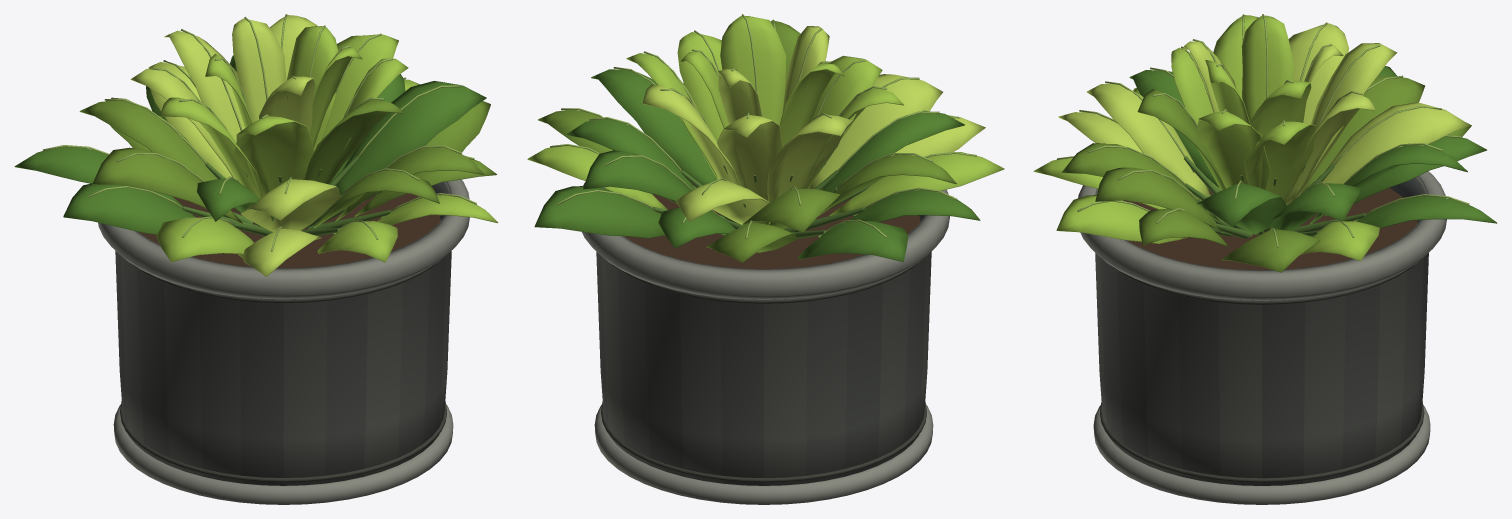
File: wsc-prop-056-plant-pot.glb
3 renders of one model, left to right at view 1: azimuth 30°, elevation 25°; view 2: azimuth 150°, elevation 25°; view 3: azimuth 270°, elevation 25°, orthographic.
Visible parts, largest first — view 1: Deep, open spun body, Potted satin foliage • green gold, Satin pewter rolled edges, Potted satin foliage • lime shoot, Potted satin foliage • olive, Potted satin foliage • deep green, Dark loam, Quiet chartreuse midrib, Oxidized fillet, Dark olive petioles; view 2: Deep, open spun body, Potted satin foliage • deep green, Potted satin foliage • lime shoot, Potted satin foliage • green gold, Satin pewter rolled edges, Potted satin foliage • olive, Dark loam, Quiet chartreuse midrib, Oxidized fillet, Dark olive petioles; view 3: Deep, open spun body, Potted satin foliage • green gold, Potted satin foliage • lime shoot, Satin pewter rolled edges, Potted satin foliage • olive, Potted satin foliage • deep green, Dark loam, Quiet chartreuse midrib, Oxidized fillet, Dark olive petioles.
Boxes of the visible parts, x1,y1,x2,y2 form: Deep, open spun body: (115,181,451,485); Potted satin foliage • green gold: (156,26,498,262); Satin pewter rolled edges: (98,179,469,504); Potted satin foliage • lime shoot: (130,15,340,276); Potted satin foliage • olive: (79,99,496,228); Potted satin foliage • deep green: (14,55,486,234); Dark loam: (138,193,440,268); Quiet chartreuse midrib: (42,14,476,251); Oxidized fillet: (120,259,446,482); Dark olive petioles: (182,156,390,236); Deep, open spun body: (596,187,931,485); Potted satin foliage • deep green: (534,69,980,261); Potted satin foliage • lime shoot: (642,26,985,224); Potted satin foliage • green gold: (527,16,1004,215); Satin pewter rolled edges: (582,182,949,504); Potted satin foliage • olive: (538,20,956,262); Dark loam: (624,169,920,269); Quiet chartreuse midrib: (550,14,976,238); Oxidized fillet: (601,262,926,482); Dark olive petioles: (653,151,868,239); Deep, open spun body: (1095,176,1428,485); Potted satin foliage • green gold: (1033,15,1379,261); Potted satin foliage • lime shoot: (1058,23,1469,205); Satin pewter rolled edges: (1078,171,1446,504); Potted satin foliage • olive: (1062,75,1471,272); Potted satin foliage • deep green: (1129,66,1496,234); Dark loam: (1123,188,1417,270); Quiet chartreuse midrib: (1057,14,1469,247); Oxidized fillet: (1100,264,1424,482); Dark olive petioles: (1184,156,1365,238).
Size of the model in its own units: 1.12 by 0.9706 by 1.04.
